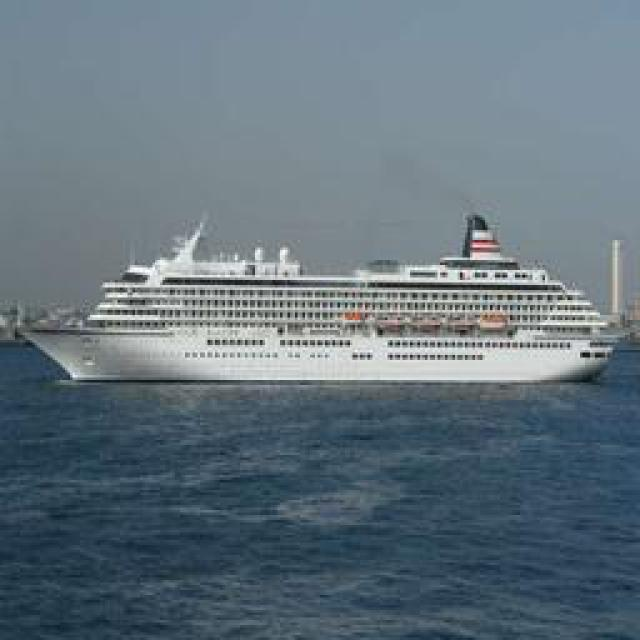Ship: (26, 202, 619, 392)
